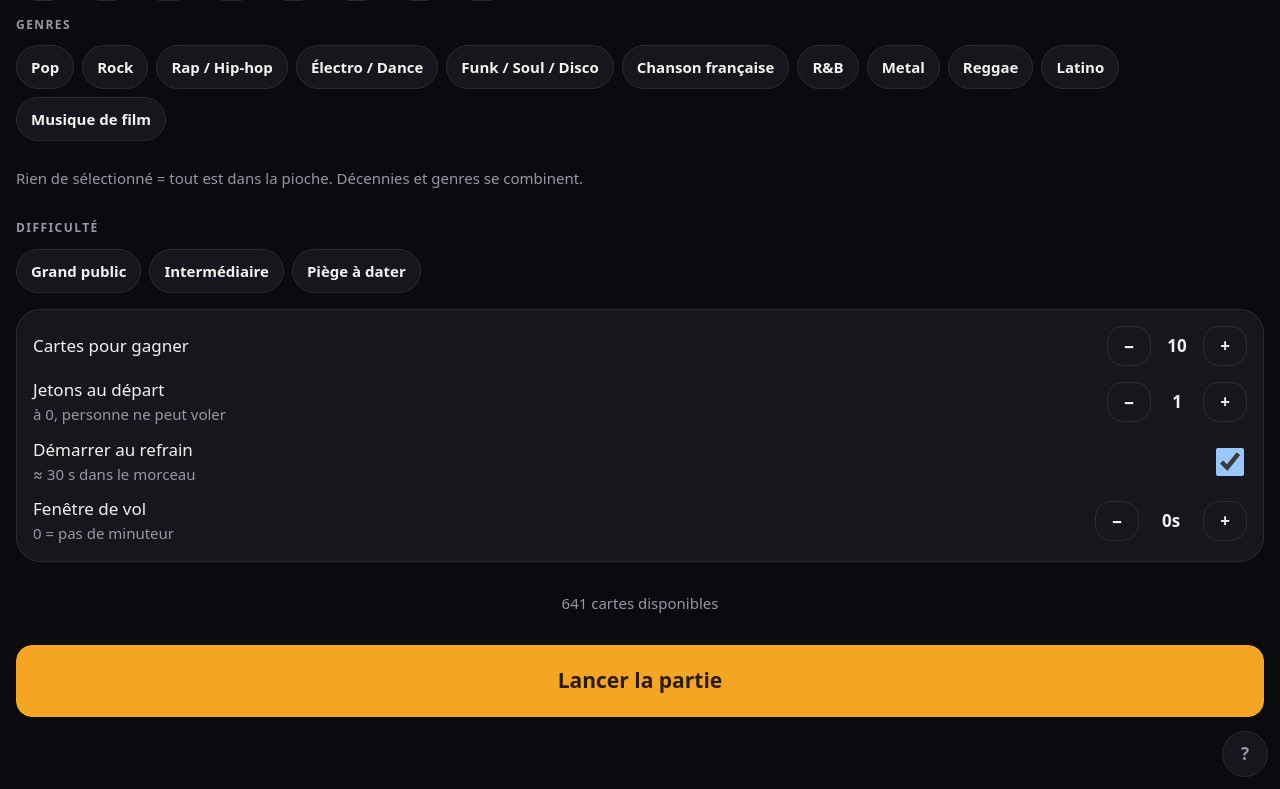
Test case: a game, played through the UI › gives the draw to the arbiter, not to the player who has to guess
(page scrolled)
Click the button "Lancer la partie" at (640, 681), box [16, 645, 1264, 717]
(page scrolled)
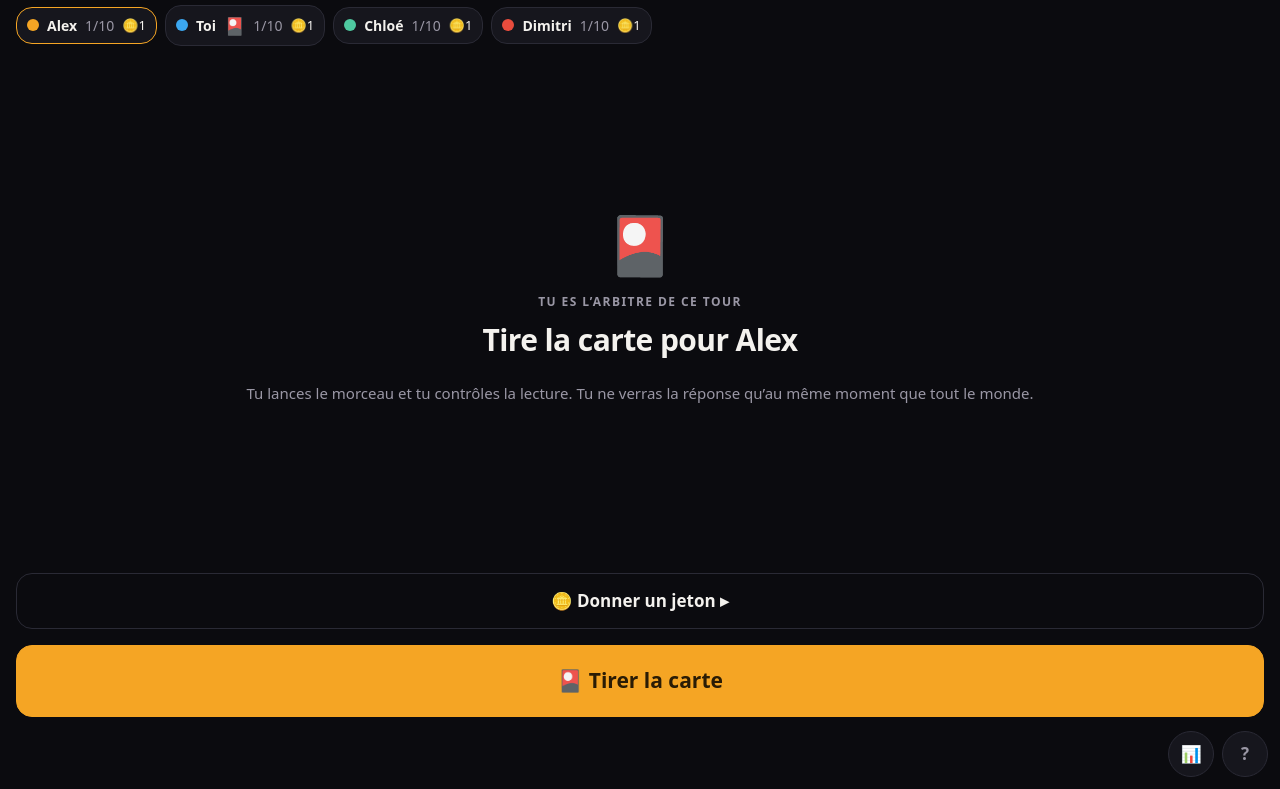
Check: the heading "Tire la carte pour Alex" is shown, box [482, 319, 798, 360]
Check: the button "🎴 Tirer la carte" is shown, box [16, 645, 1264, 717]
